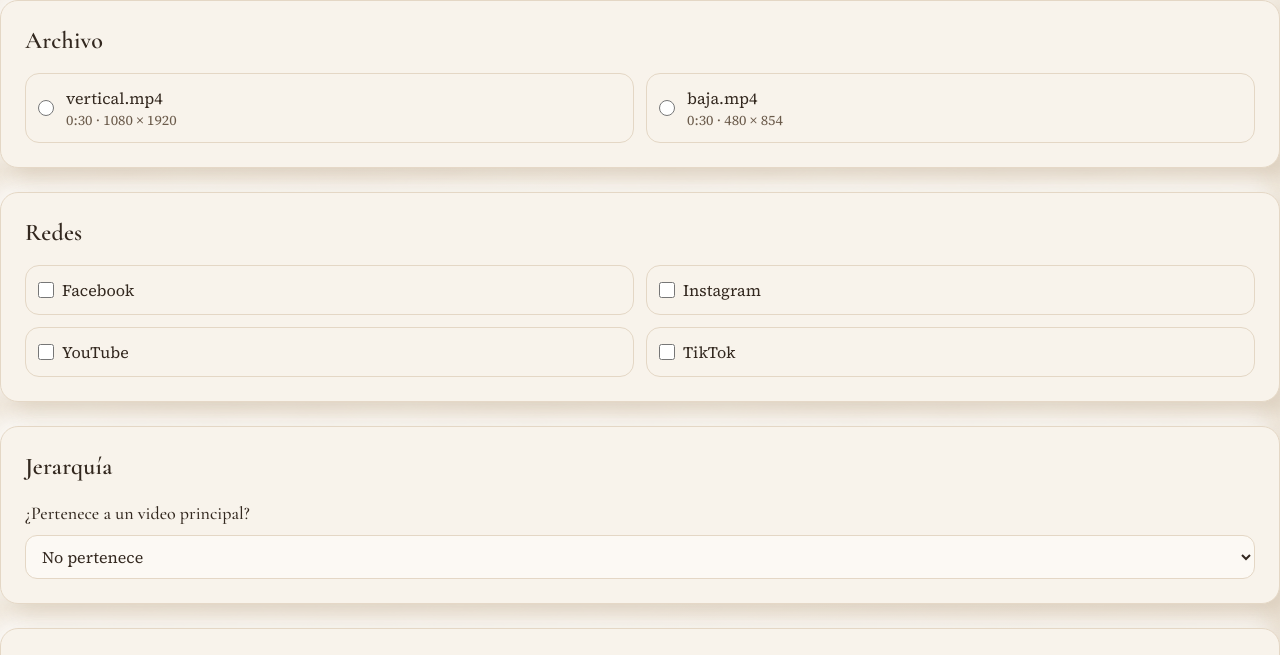
Scenario: al elegir un archivo sugiere las redes
Click the radio button labelled "vertical.mp4 0:30 · 1080 × 1920". click: (46, 108)
box: x1=38 y1=100 x2=54 y2=116
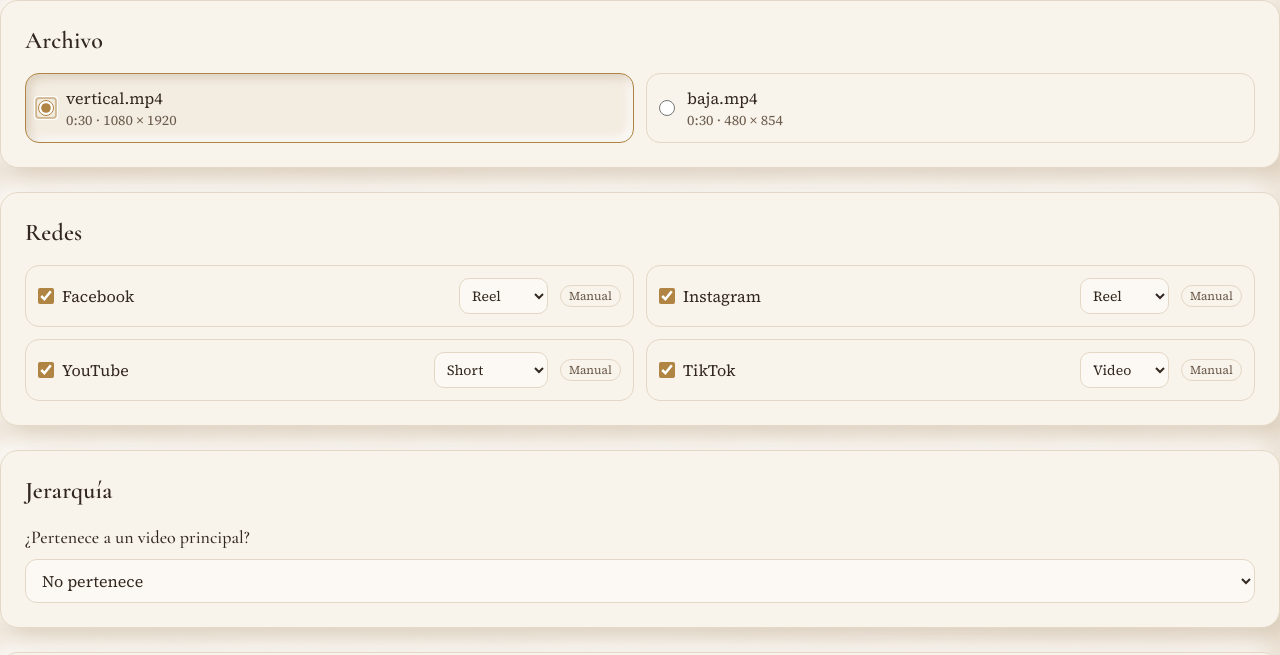
Expected: the checkbox labelled "Facebook" is checked, x1=38 y1=288 x2=54 y2=304
Expected: the checkbox labelled "Instagram" is checked, x1=659 y1=288 x2=675 y2=304
Expected: the checkbox labelled "YouTube" is checked, x1=38 y1=362 x2=54 y2=378
